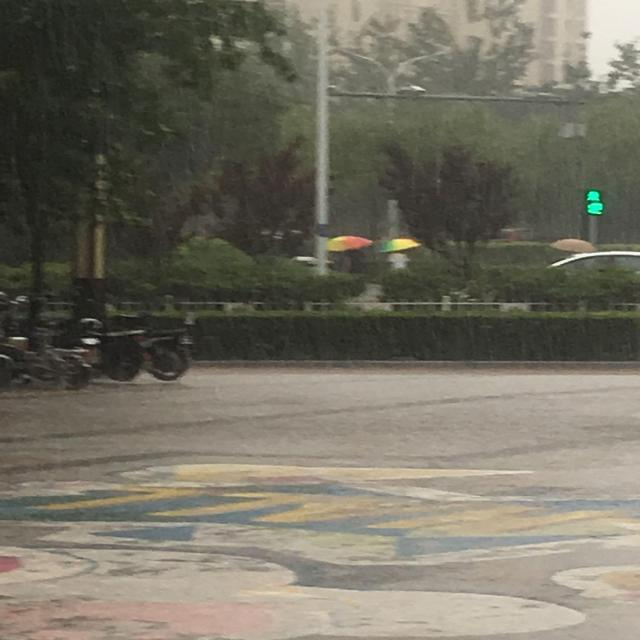car: (548, 250, 640, 268)
